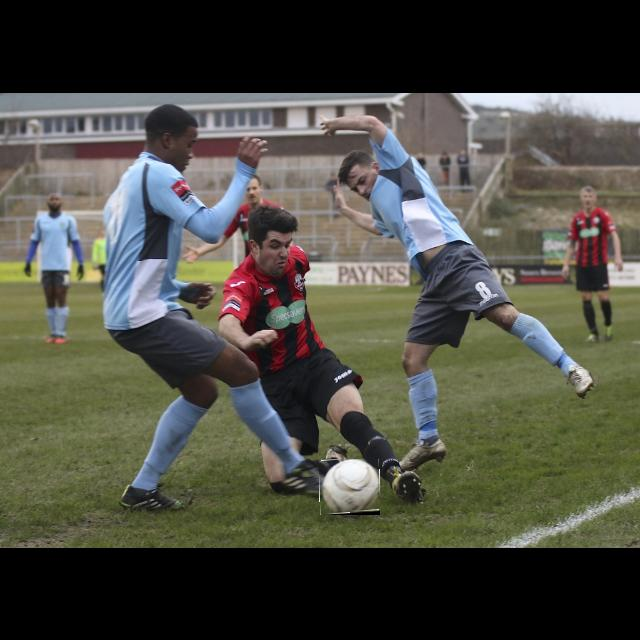Football: (320, 459, 380, 515)
